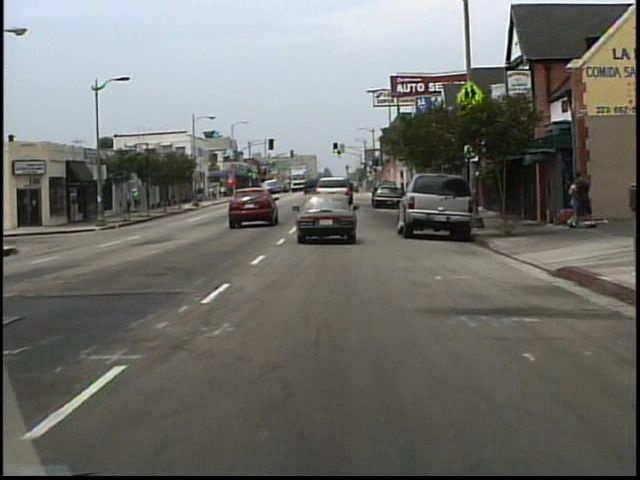person: (573, 167, 597, 229), (567, 175, 585, 230), (132, 187, 143, 214)
